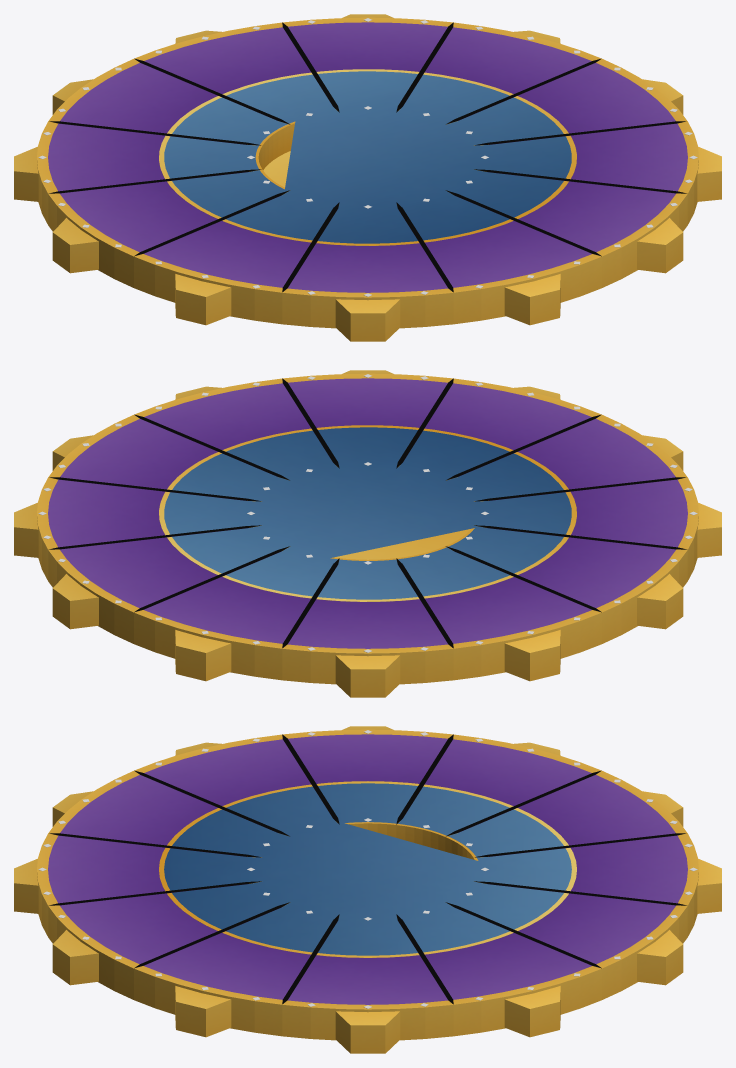
File: boss_1_arena_divided.fbx
3 renders of one model, top to bottom at view 1: azimuth 30°, elevation 25°; view 2: azimuth 150°, elevation 25°; view 3: azimuth 270°, elevation 25°, orthographic.
Visible parts, largest first — view 1: Circle.002, Cylinder, Circle.004; view 2: Circle.002, Cylinder, Circle.004; view 3: Circle.002, Cylinder, Circle.004.
Part boxes in pixels (x1,y1,x2,y2): Circle.002: (37, 17, 698, 328); Cylinder: (159, 69, 576, 245); Circle.004: (14, 14, 721, 341); Circle.002: (37, 373, 698, 684); Cylinder: (159, 425, 576, 601); Circle.004: (14, 370, 721, 697); Circle.002: (37, 729, 698, 1040); Cylinder: (159, 781, 576, 957); Circle.004: (14, 726, 721, 1053).
Size of the model in its own units: 4063 by 220 by 4063.
